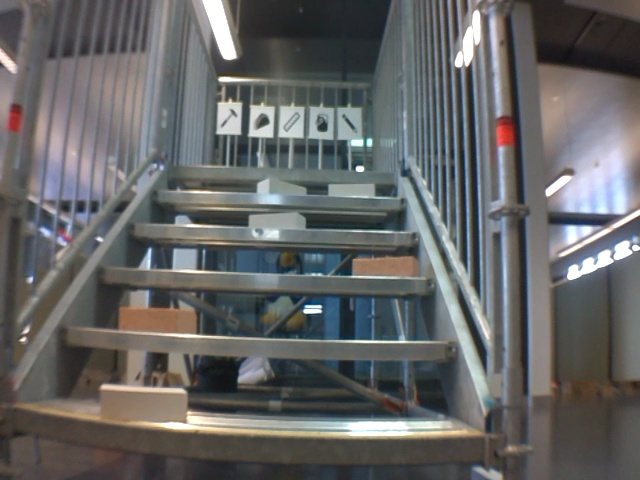brick: (99, 384, 186, 422), (119, 308, 194, 334), (354, 257, 419, 277), (256, 178, 305, 195), (250, 213, 305, 228), (329, 183, 375, 196)
bucket: (313, 111, 331, 134)
edge: (16, 407, 484, 463), (61, 327, 459, 361), (94, 267, 433, 294), (128, 224, 419, 245), (151, 189, 408, 210), (170, 165, 397, 183)
hammer: (218, 107, 238, 131)
pencil: (339, 111, 360, 136)
ruler: (280, 110, 301, 134)
stairs: (2, 1, 530, 478)
steps: (13, 162, 489, 466)
taco: (251, 108, 270, 132)
